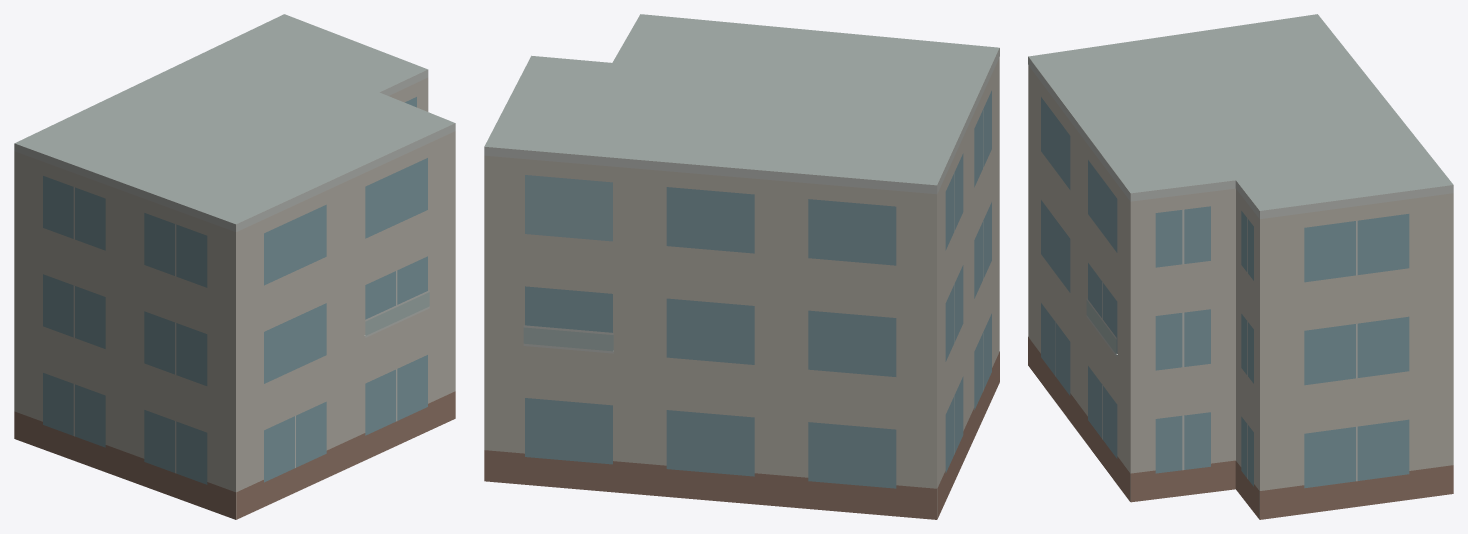
File: survey-upis-32613306.glb
The picture shows the model from 3 angles, left to right: view 1: azimuth 30°, elevation 25°; view 2: azimuth 150°, elevation 25°; view 3: azimuth 270°, elevation 25°; orthographic projection. The views are drawn at different scales.
Parts seen in each view (by area): view 1: survey-upis-32613306.tmp; view 2: survey-upis-32613306.tmp; view 3: survey-upis-32613306.tmp.
Boxes of the visible parts, x1=… form: survey-upis-32613306.tmp: x1=14, y1=14, x2=455, y2=519; survey-upis-32613306.tmp: x1=484, y1=14, x2=999, y2=519; survey-upis-32613306.tmp: x1=1028, y1=14, x2=1453, y2=519.
Bounding box in the file's own units: 12.53 × 9.15 × 11.43.
